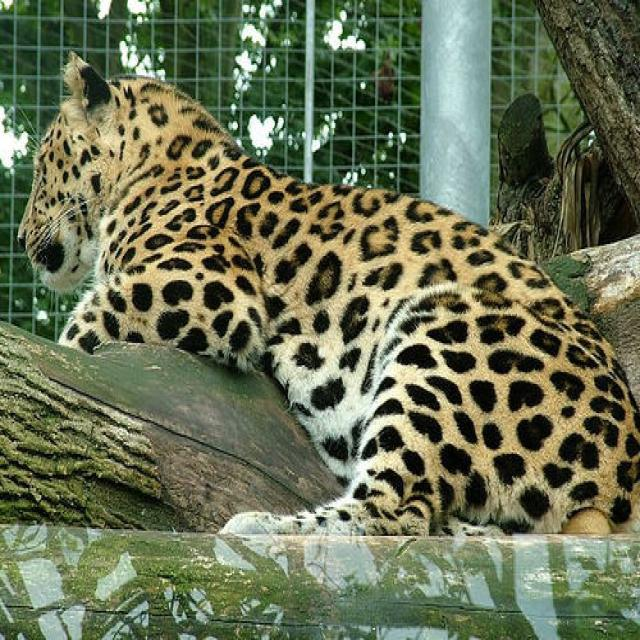Leopard: (14, 51, 638, 550)
